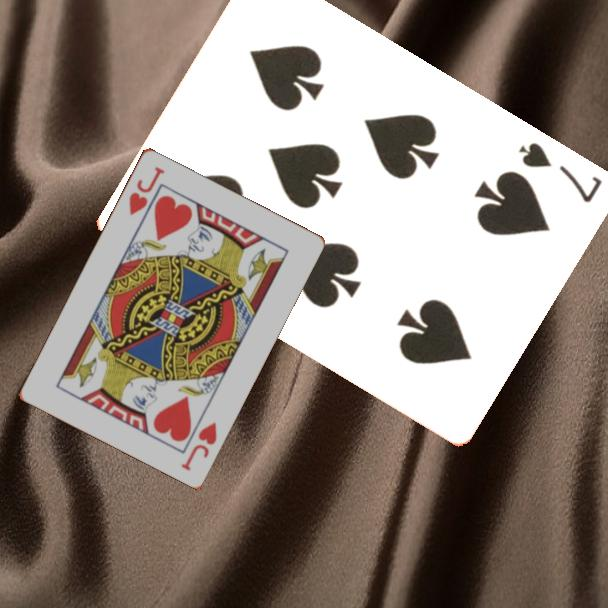h11: (177, 418, 220, 473), (125, 162, 167, 218)
s07: (514, 139, 605, 206)
